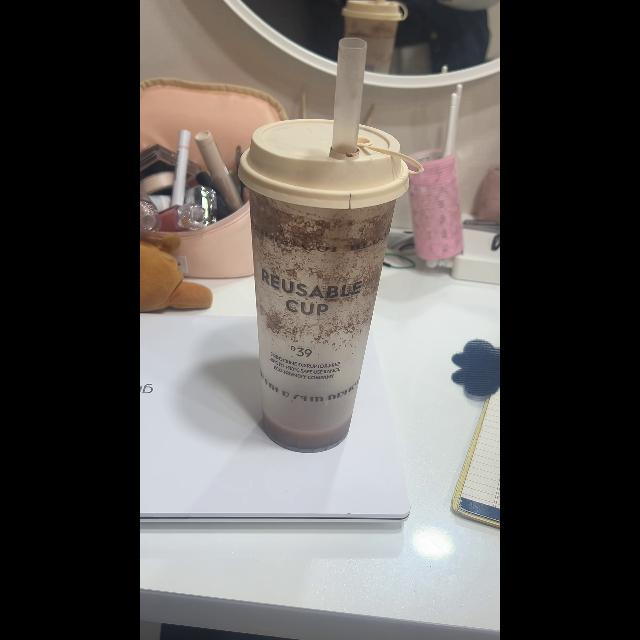dirty: (238, 119, 416, 451)
